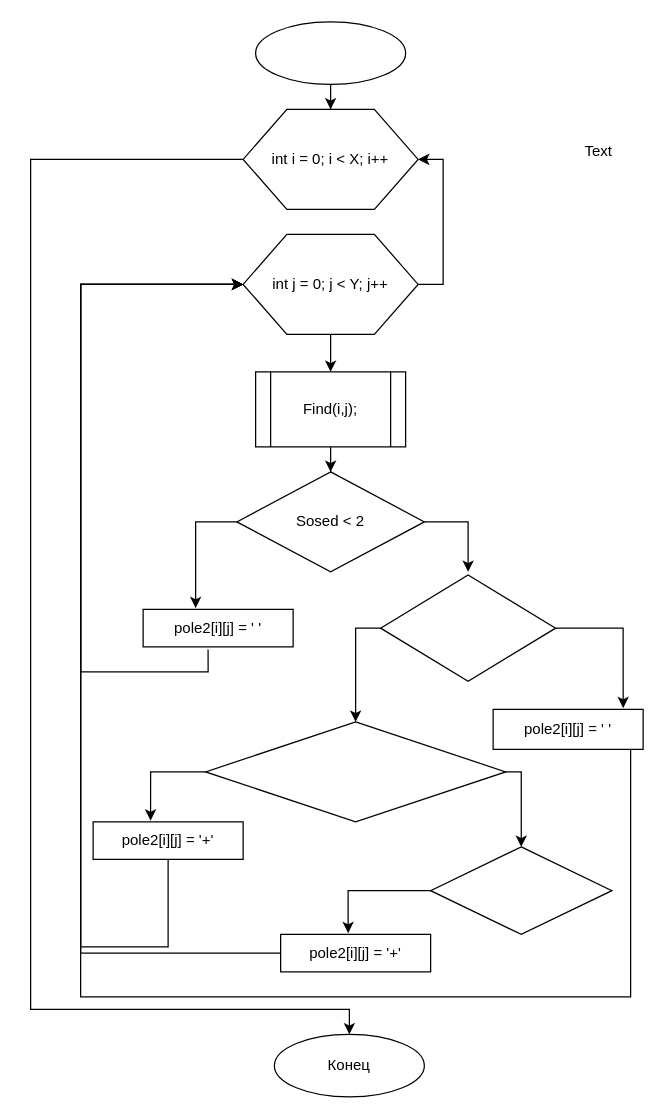
This 665x1119 diagram has some shape labels left out. The shapes that lost their labels are listed below. From the top down, each one's box as (x1, y1, x2, y2) in pixels, then its label:
(254, 21, 406, 84): Начало
(379, 574, 556, 681): Sosed > 3
(204, 721, 506, 822): (Sosed == 2) && (pole[i][j] == '+')
(429, 846, 612, 934): Sosed == 3
